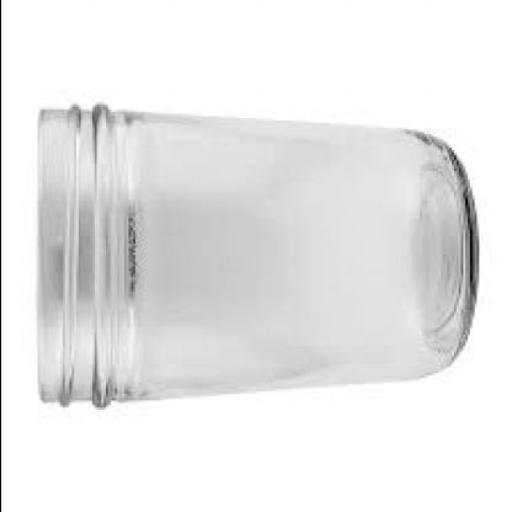glass: (32, 102, 475, 408)
